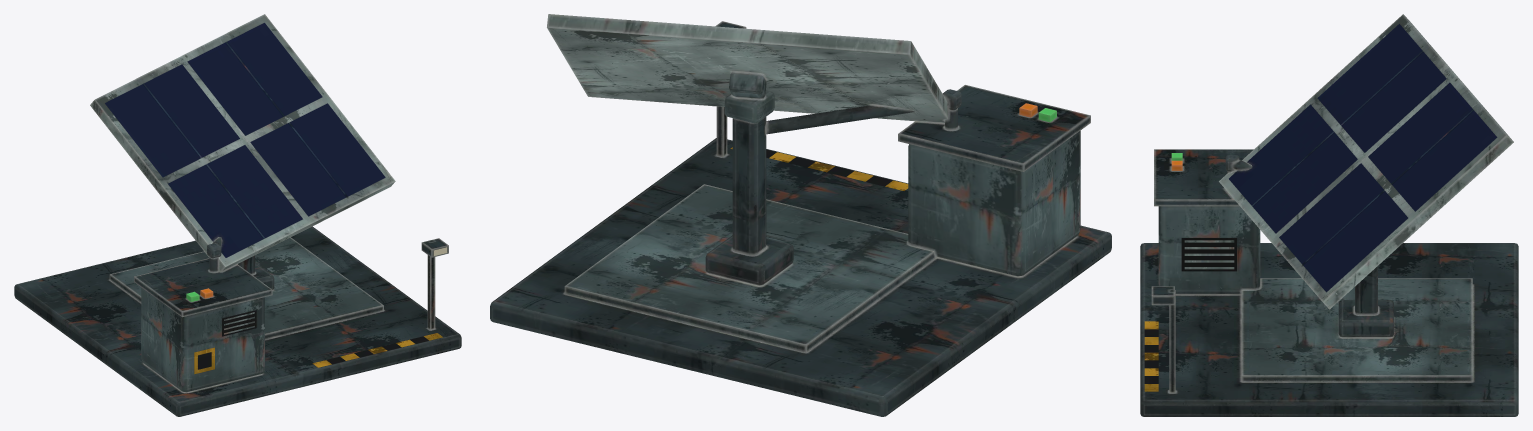
Rendered from solar_panel.glb.
3 views of the same model, side by side, from view 1: azimuth 30°, elevation 25°; view 2: azimuth 150°, elevation 25°; view 3: azimuth 270°, elevation 25° (orthographic). The views are drawn at different scales.
Visible parts, largest first — view 1: te_solar_panel, move_panel; view 2: te_solar_panel, move_panel; view 3: te_solar_panel, move_panel.
Boxes of the visible parts, box(x1,y1,x2,y2) form: te_solar_panel: box(14, 226, 461, 416); move_panel: box(90, 14, 395, 271); te_solar_panel: box(490, 21, 1111, 416); move_panel: box(547, 14, 947, 123); te_solar_panel: box(1140, 149, 1518, 416); move_panel: box(1219, 14, 1513, 309).
Bounding box in the file's own units: 0.8555 × 0.6261 × 0.82.
1 material, 1 textured.
